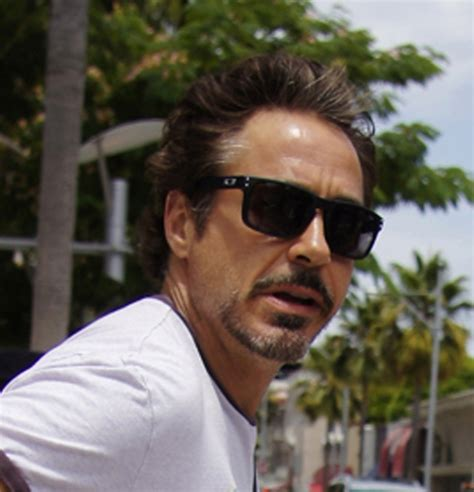sem_capacete: (171, 95, 383, 370)
